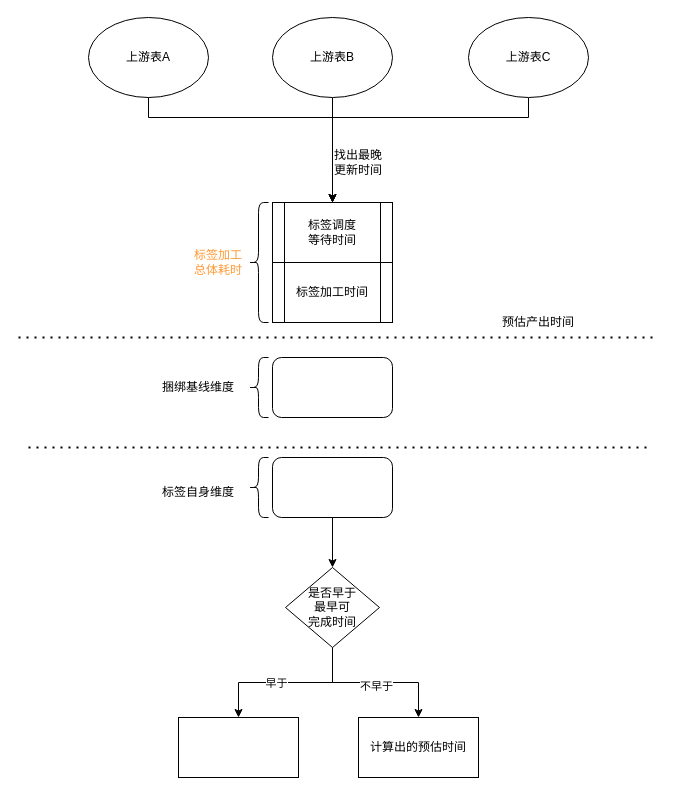
Image size: 677x795. Some labels were removed from this diagram. The shapes that lost their labels are listed below. From the top down, each one's centre as x and y in pixels, then its label:
(332,387): Buffer时间 （动态调整）
(332,487): 标签加工 总体耗时 （动态调整）
(238,747): 最早完成时间
